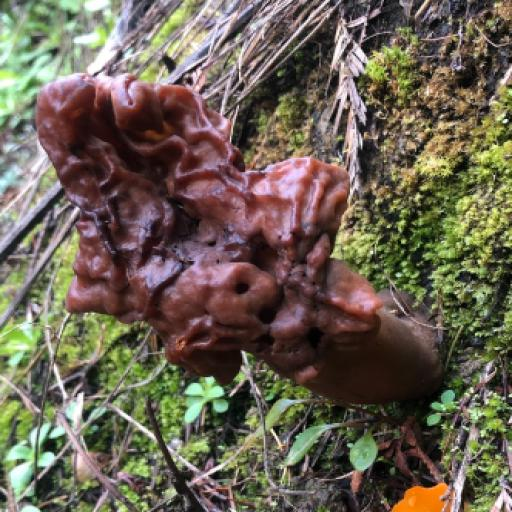False Morel: (0, 41, 500, 458)
